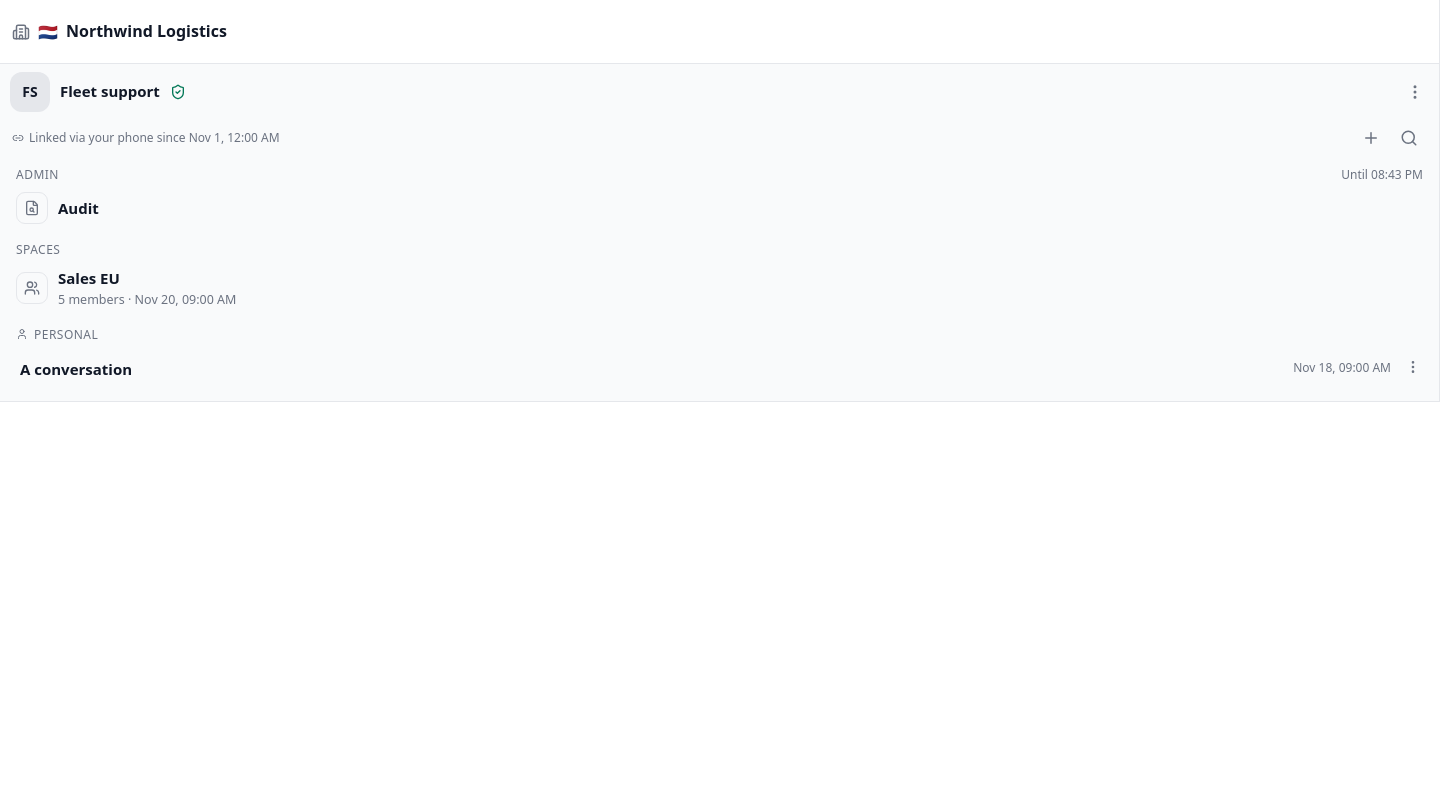
Test: the ADMIN area, exactly while the grant is open (UI-ADMIN-003) › hides itself on ayni.admin.changed ending the grant
Click the button with class "space-row" showing "Audit" at (32, 208), box [8,185,1431,231]
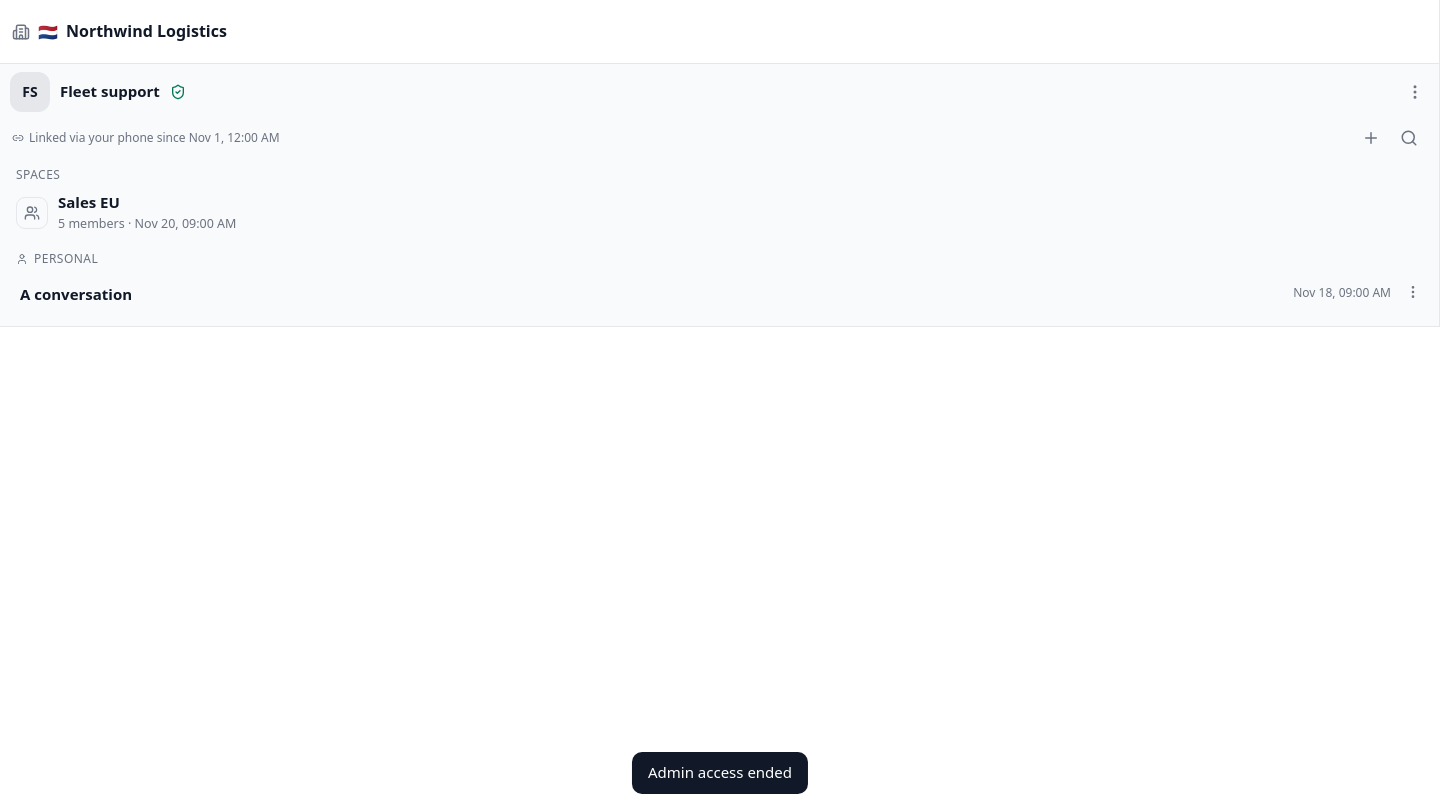
Check: the element with class "admin-area" is gone
Check: the message with class "toast" reads "Admin access ended", box [648,762,792,782]
